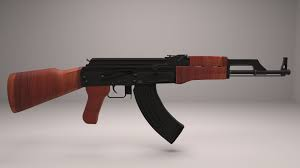gun: (6, 52, 292, 144)
